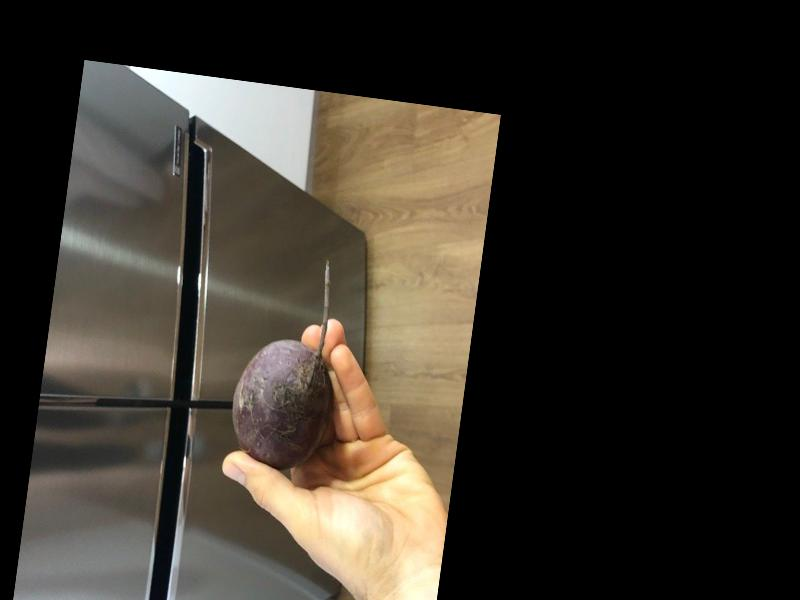Beet: (224, 249, 350, 473)
